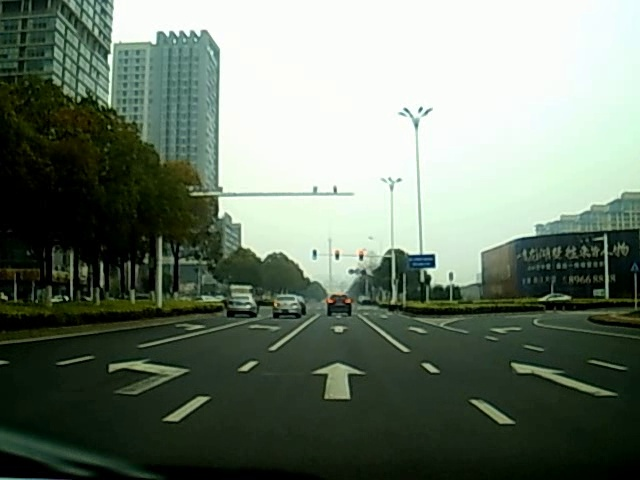Traffic_Light_stop: (358, 249, 364, 264), (334, 251, 340, 262)
